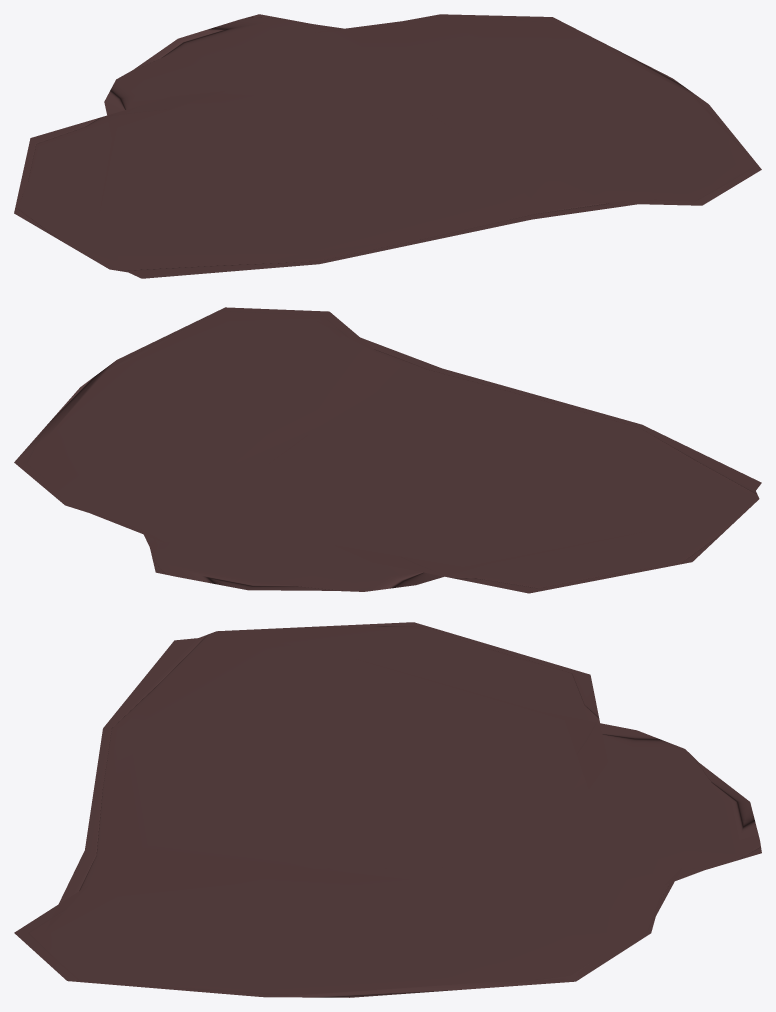
Rendered from mud.fbx.
The picture shows the model from 3 angles, top to bottom: view 1: azimuth 30°, elevation 25°; view 2: azimuth 150°, elevation 25°; view 3: azimuth 270°, elevation 25°; orthographic projection. The views are drawn at different scales.
Visible parts, largest first — view 1: pCube1; view 2: pCube1; view 3: pCube1.
Part boxes in pixels (bbox=[...]): pCube1: bbox=[14, 14, 761, 278]; pCube1: bbox=[14, 307, 761, 593]; pCube1: bbox=[14, 622, 761, 997].
Bounding box in the file's own units: 205 × 0.3628 × 173.
